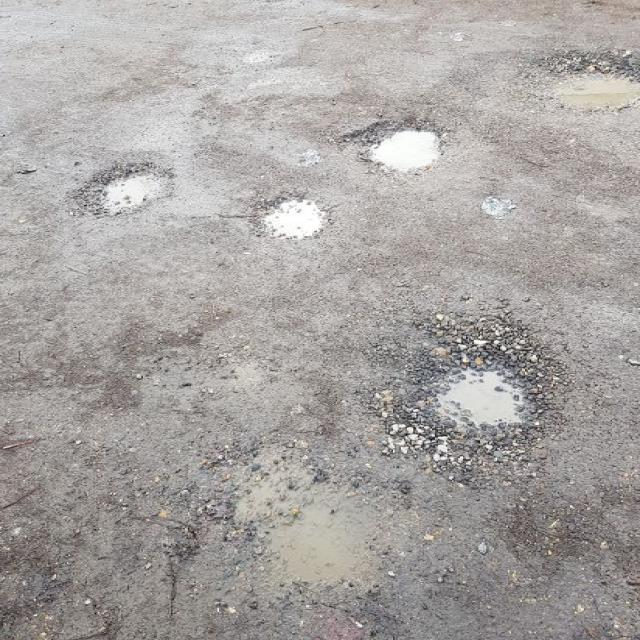pothole: (374, 300, 568, 475), (520, 47, 640, 116), (71, 164, 188, 218), (362, 122, 457, 176), (250, 190, 340, 240)
